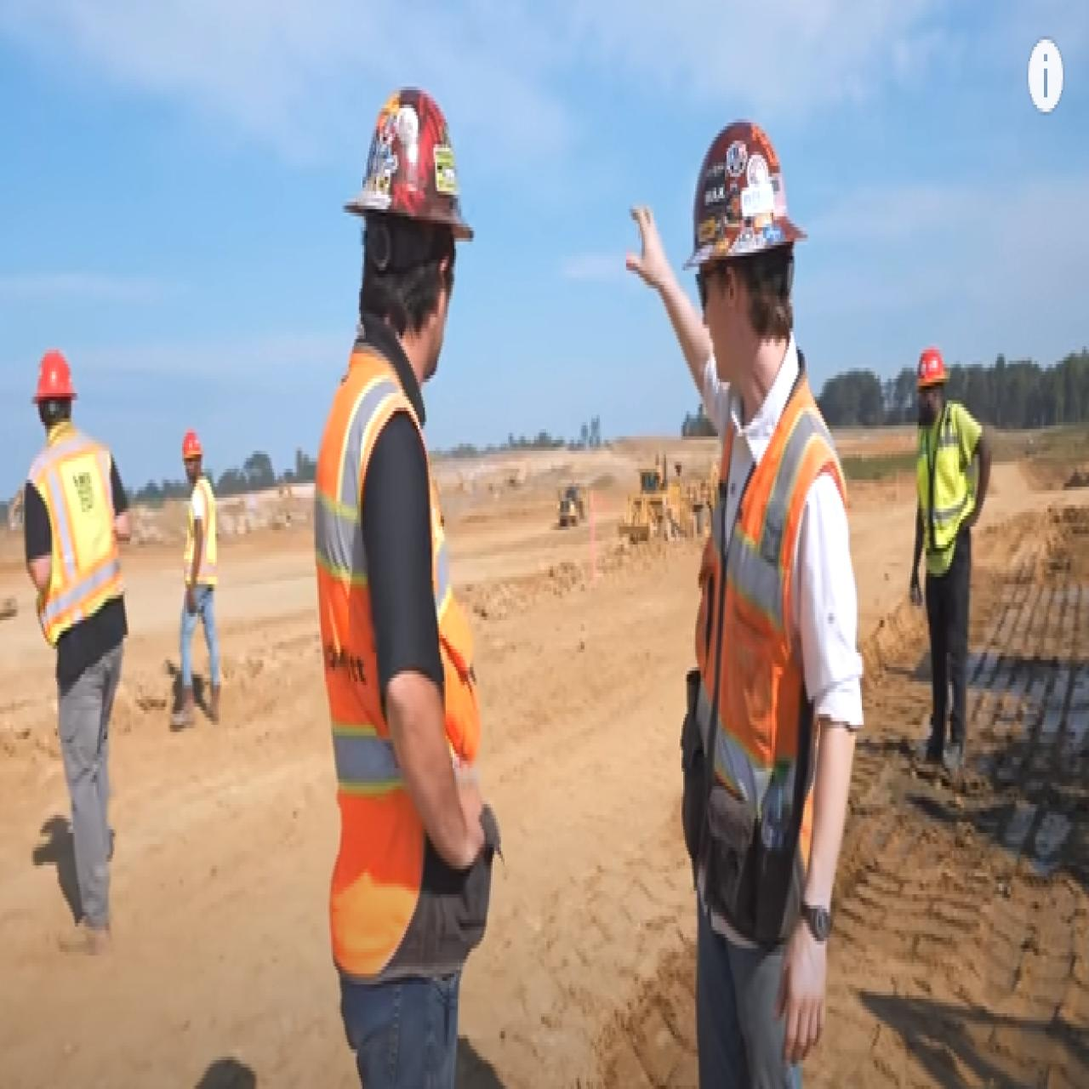Person: (626, 97, 867, 1089), (289, 76, 497, 1089), (16, 331, 139, 952), (902, 332, 996, 784), (156, 406, 237, 718)
Safety_Vest: (307, 323, 483, 972), (683, 391, 837, 925), (27, 429, 129, 649), (913, 406, 973, 585), (177, 479, 223, 597)
